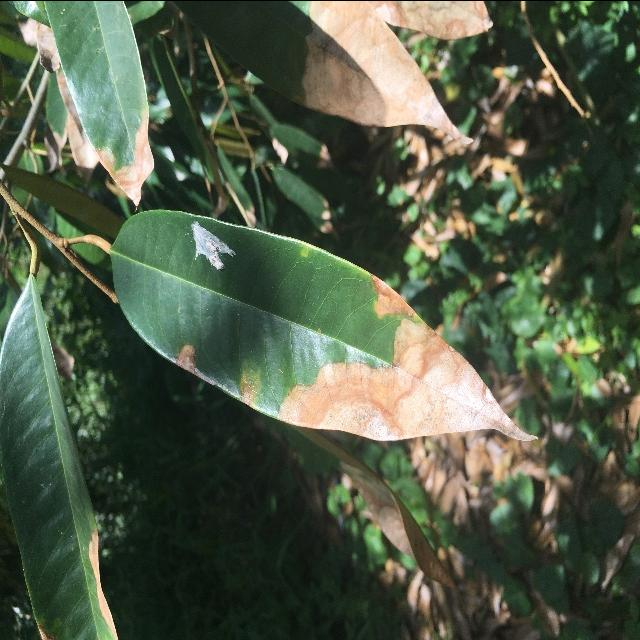Leaf Blight: (107, 205, 541, 449)
